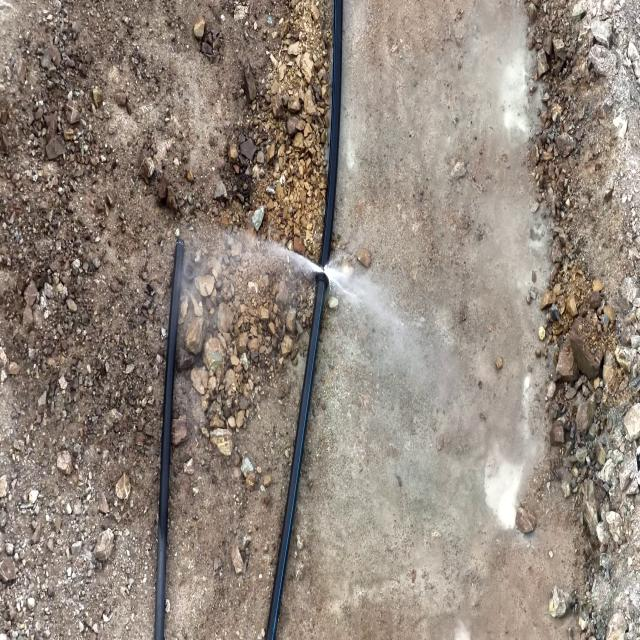leak: (206, 215, 386, 333)
